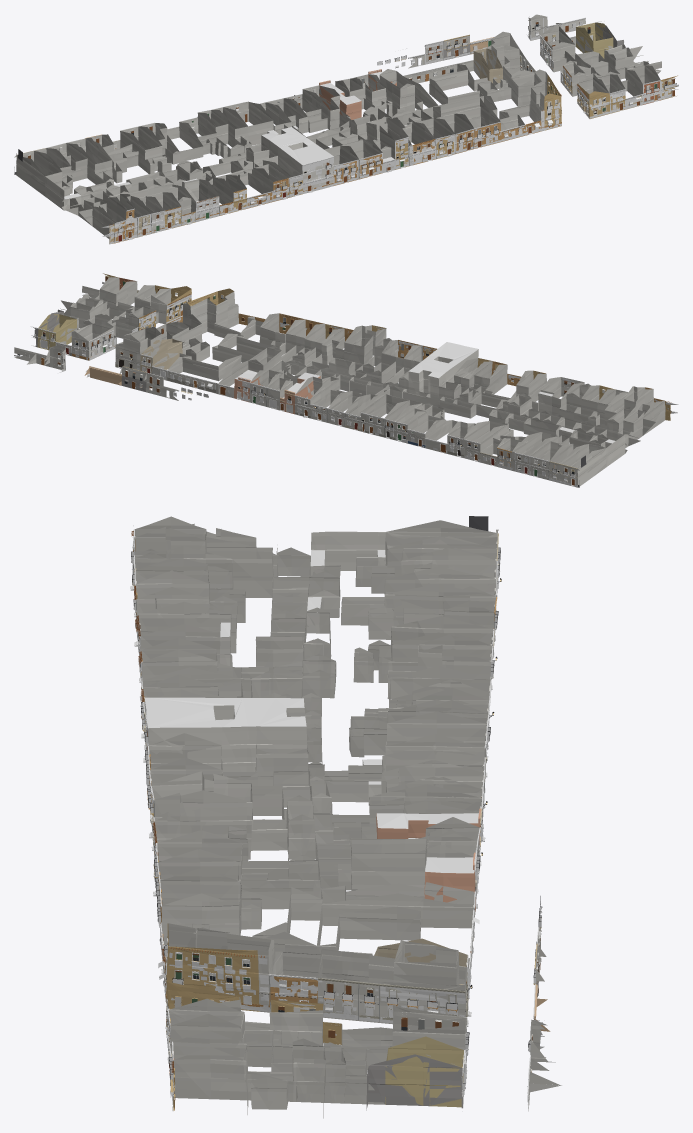
The model's file is zona_2_-2.glb.
3 renders of one model, top to bottom at view 1: azimuth 30°, elevation 25°; view 2: azimuth 150°, elevation 25°; view 3: azimuth 270°, elevation 25°, orthographic. The views are drawn at different scales.
Visible parts, largest first — view 1: z_casas_2_-2, z_fachadas_2_-2, z_casas_planas_2_-2; view 2: z_casas_2_-2, z_fachadas_2_-2, z_casas_planas_2_-2; view 3: z_casas_2_-2, z_casas_planas_2_-2, z_fachadas_2_-2.
Boxes of the visible parts, x1,y1,x2,y2 form: z_casas_2_-2: (16, 14, 677, 243); z_fachadas_2_-2: (14, 17, 678, 244); z_casas_planas_2_-2: (14, 18, 585, 210); z_casas_2_-2: (27, 273, 671, 487); z_fachadas_2_-2: (14, 276, 678, 487); z_casas_planas_2_-2: (14, 342, 627, 485); z_casas_2_-2: (133, 516, 559, 1118); z_casas_planas_2_-2: (145, 531, 561, 1110); z_fachadas_2_-2: (130, 516, 555, 1111).
Size of the model in its own units: 206 by 12.05 by 67.5.
